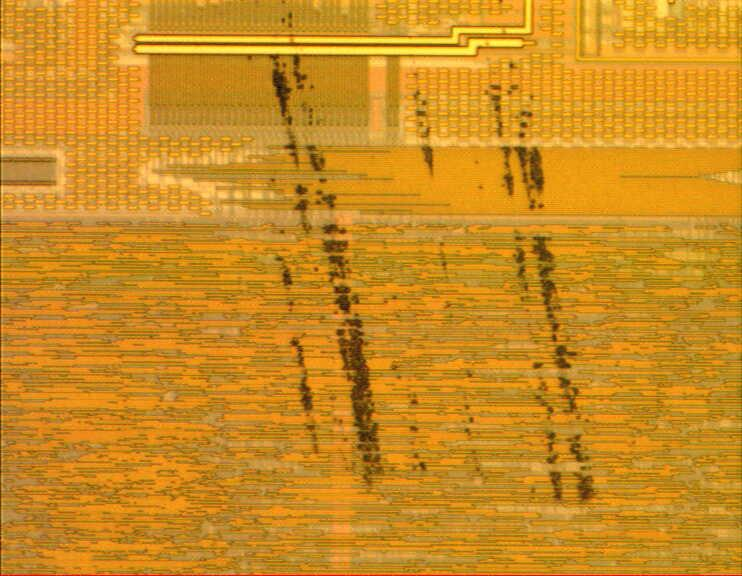SCRATCH: (207, 1, 610, 505)
